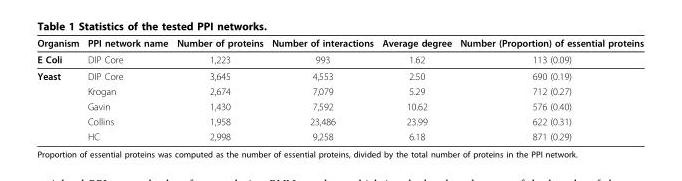table: (36, 36, 643, 141)
table column: (455, 36, 643, 141), (266, 36, 377, 141), (171, 36, 266, 141), (82, 36, 171, 141), (377, 36, 455, 141), (36, 36, 82, 141)
table column header: (36, 36, 643, 50)
table row: (36, 50, 643, 67), (36, 67, 643, 83), (36, 83, 643, 98), (36, 98, 643, 113), (36, 113, 643, 128), (36, 36, 643, 50), (36, 128, 643, 141)
table spanning cell: (36, 67, 82, 141)
